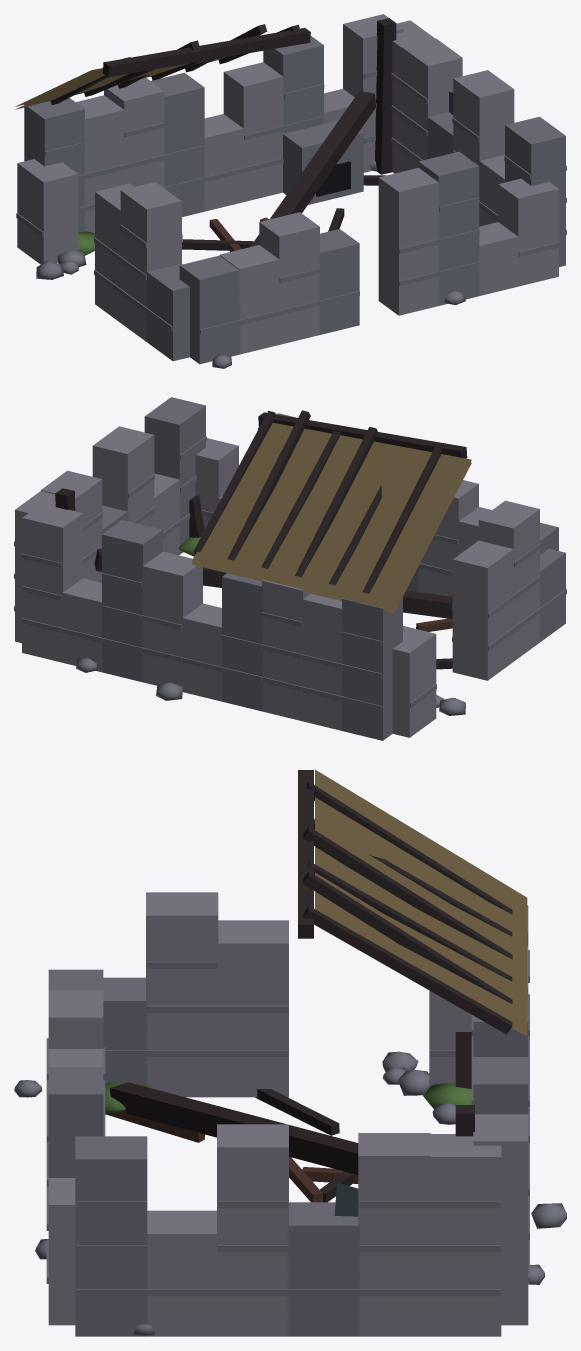
The model's file is ruined_cottage_b.glb.
The picture shows the model from 3 angles, top to bottom: view 1: azimuth 30°, elevation 25°; view 2: azimuth 150°, elevation 25°; view 3: azimuth 270°, elevation 25°; orthographic projection. The views are drawn at different scales.
Visible parts, largest first — view 1: wall_n0; view 2: wall_n0; view 3: wall_n0.
Part boxes in pixels (x1,y1,x2,y2): wall_n0: [14, 14, 566, 368]; wall_n0: [14, 397, 566, 740]; wall_n0: [14, 769, 566, 1336].
Size of the model in its own units: 7.4 by 4.04 by 6.25.
